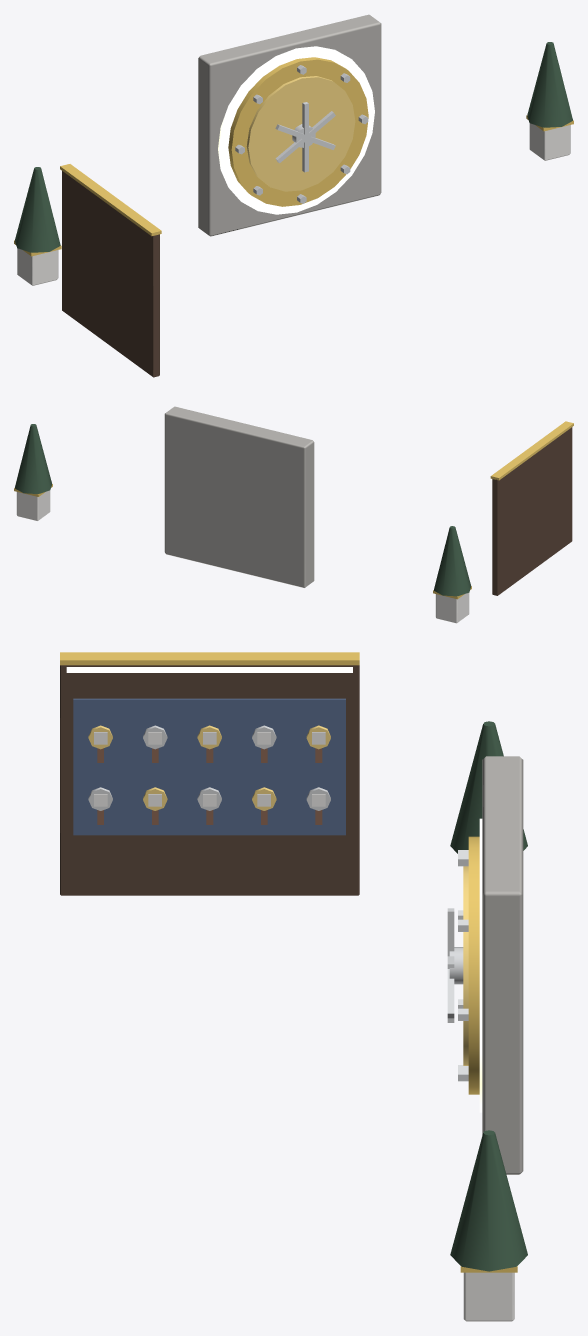
The model's file is einrichtung_tresor_buehne.glb.
3 renders of one model, top to bottom at view 1: azimuth 30°, elevation 25°; view 2: azimuth 150°, elevation 25°; view 3: azimuth 270°, elevation 25°, orthographic. The views are drawn at different scales.
Visible parts, largest first — view 1: einrichtung_tresor_buehne; view 2: einrichtung_tresor_buehne; view 3: einrichtung_tresor_buehne.
Part boxes in pixels (<box>): einrichtung_tresor_buehne: <box>14,14,573,377</box>; einrichtung_tresor_buehne: <box>14,406,573,623</box>; einrichtung_tresor_buehne: <box>60,652,527,1321</box>.
Bounding box in the file's own units: 7.67 × 2.3 × 3.44.
